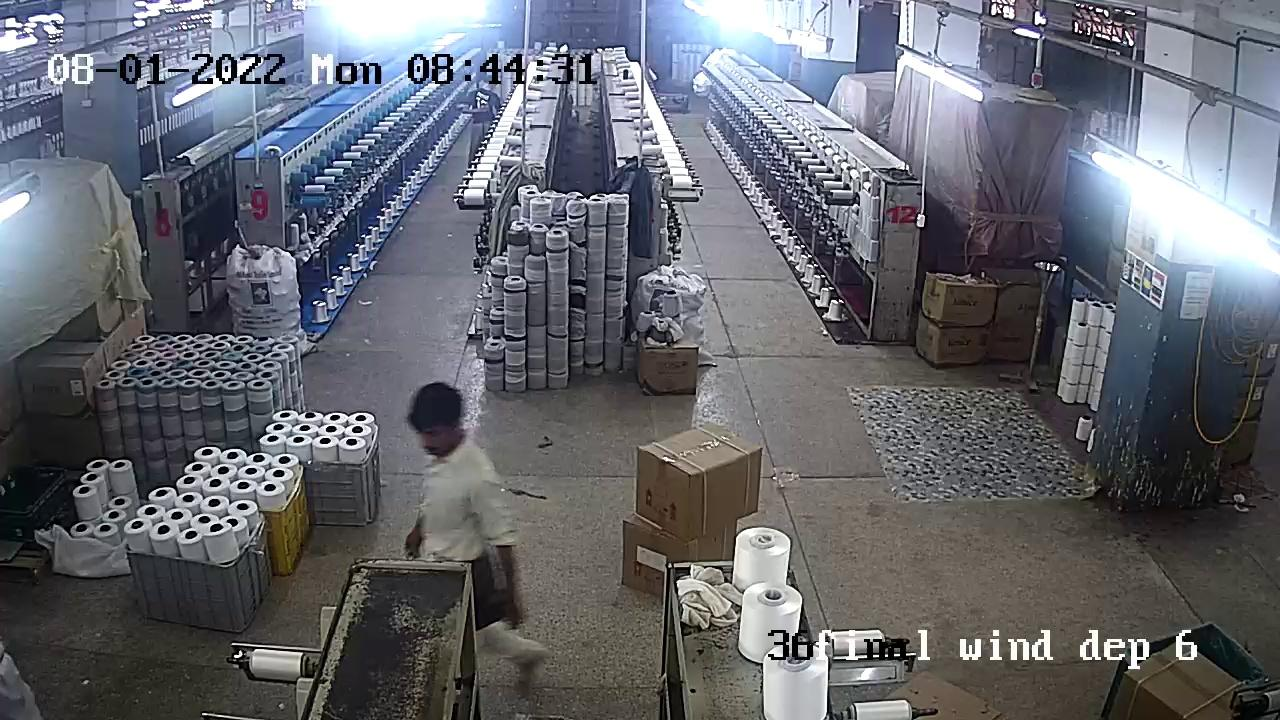person: (402, 380, 510, 555)
